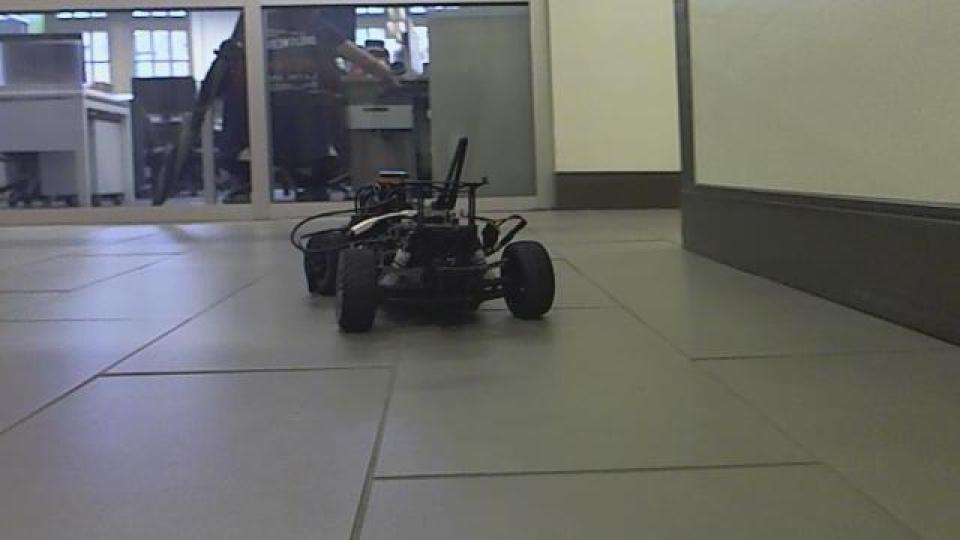car: (286, 135, 558, 336)
